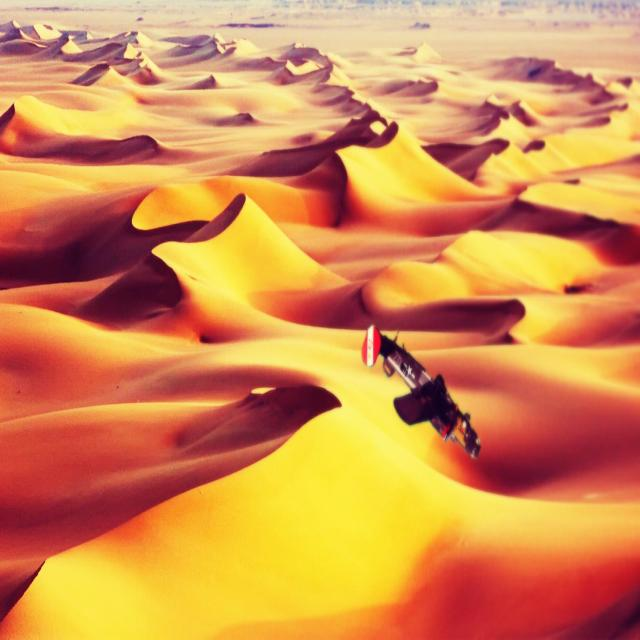airplane: (361, 324, 481, 461)
